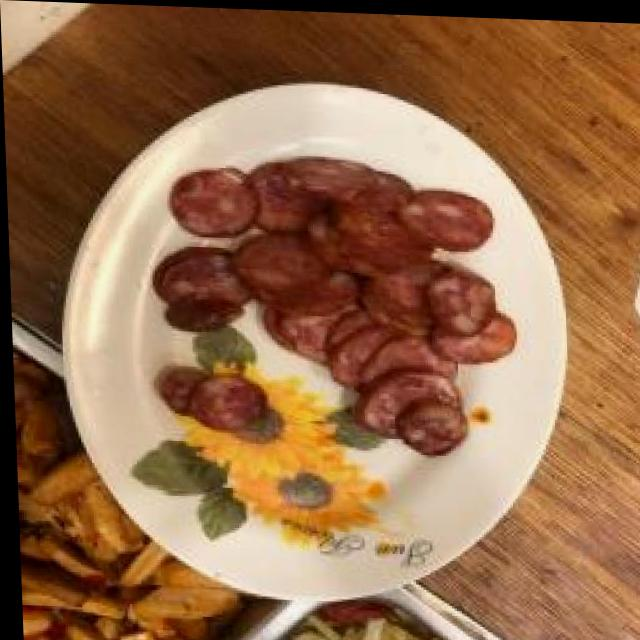chinese_sausage: (146, 149, 513, 448)
